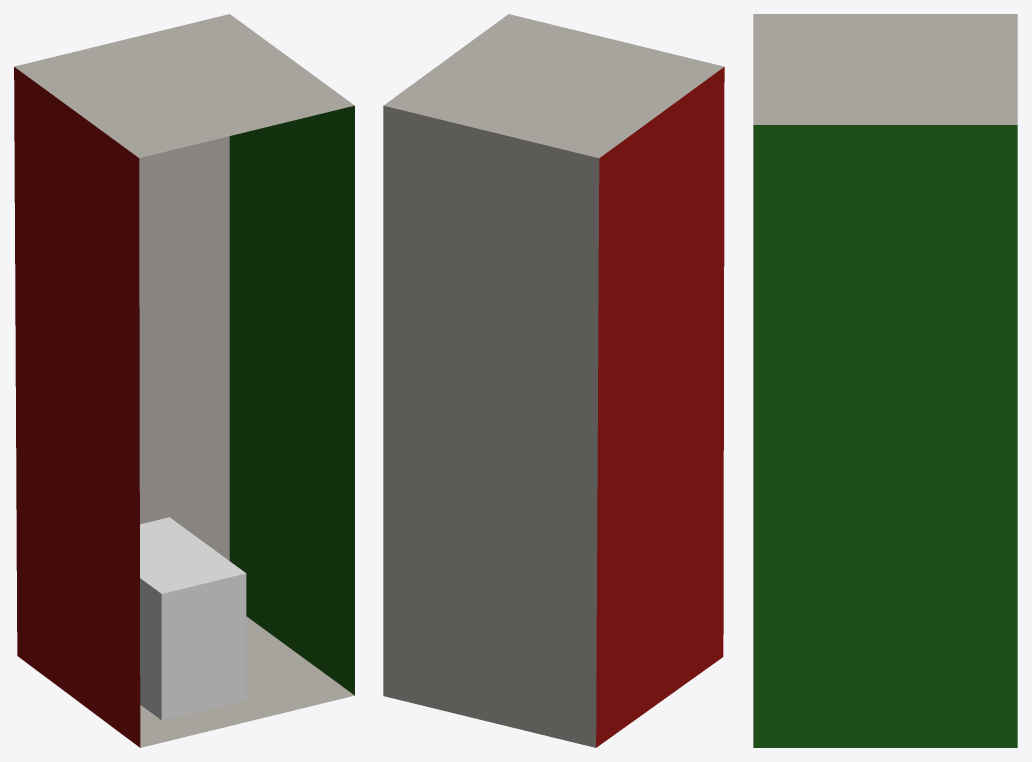
File: cornell.fbx
3 renders of one model, left to right at view 1: azimuth 30°, elevation 25°; view 2: azimuth 150°, elevation 25°; view 3: azimuth 270°, elevation 25°, orthographic. The views are drawn at different scales.
Parts seen in each view (by area): view 1: leftWall, rightWall, backWall, ceiling, Box001, floor; view 2: backWall, leftWall, ceiling; view 3: rightWall, ceiling.
Part boxes in pixels (x1,y1,x2,y2): leftWall: (14, 67, 140, 747); rightWall: (229, 105, 354, 695); backWall: (139, 136, 229, 560); ceiling: (14, 14, 354, 157); Box001: (140, 517, 246, 720); floor: (140, 616, 354, 747); backWall: (383, 105, 599, 747); leftWall: (596, 67, 724, 747); ceiling: (384, 14, 723, 158); rightWall: (753, 125, 1017, 747); ceiling: (753, 14, 1017, 124).
Size of the model in its own units: 150 by 392 by 151.
